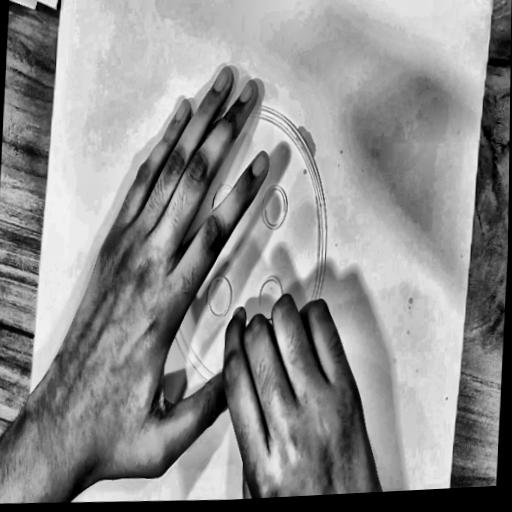button: (135, 77, 351, 429)
top_right: (487, 0, 497, 8)
